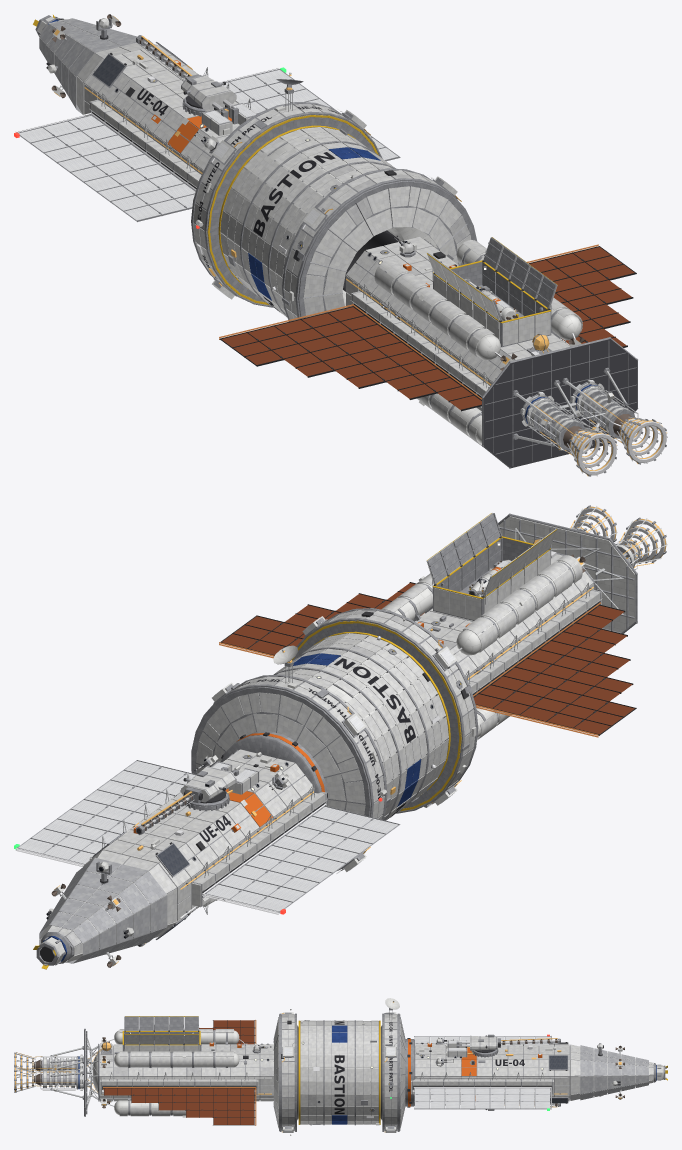
Rendered from bastion.glb.
3 views of the same model, one above another, from view 1: azimuth 30°, elevation 25°; view 2: azimuth 150°, elevation 25°; view 3: azimuth 270°, elevation 25° (orthographic). The views are drawn at different scales.
Parts seen in each view (by area): view 1: CochHull_tile, CochHull_grey, CochHull_hot, CochHull_radw, CochRingDrum_tile, CochHull_tungsten, CochHull_bumper, CochHull_cc, CochHull_white_s, CochHull_truss, CochHull_steel, CochHull_tank (+12 smaller); view 2: CochHull_tile, CochHull_grey, CochHull_radw, CochHull_hot, CochRingDrum_tile, CochHull_bumper, CochHull_white, CochHull_cc, CochHull_white_s, CochHull_truss, CochHull_tank, CochHull_steel (+10 smaller); view 3: CochHull_tile, CochHull_grey, CochRingDrum_tile, CochHull_hot, CochHull_radw, CochHull_bumper, CochHull_white_s, CochHull_truss, CochHull_tank, CochRingDrum_grey, CochHull_tile2, CochRingDrum_white_m (+17 smaller).
Part boxes in pixels (box(x1,y1,x2,y2)): CochHull_tile: box(39, 19, 582, 445); CochHull_grey: box(18, 15, 666, 476); CochHull_hot: box(221, 247, 634, 409); CochHull_radw: box(19, 70, 603, 430); CochRingDrum_tile: box(220, 127, 394, 316); CochHull_tungsten: box(483, 339, 637, 467); CochHull_bumper: box(39, 18, 152, 113); CochHull_cc: box(219, 246, 636, 411); CochHull_white_s: box(37, 15, 627, 450); CochHull_truss: box(59, 24, 667, 476); CochHull_steel: box(143, 41, 666, 475); CochHull_tank: box(379, 244, 581, 443); CochHull_tile: box(39, 513, 602, 962); CochHull_grey: box(17, 505, 666, 965); CochHull_radw: box(18, 560, 509, 911); CochHull_hot: box(222, 583, 634, 734); CochRingDrum_tile: box(275, 633, 448, 820); CochHull_bumper: box(39, 857, 167, 963); CochHull_white: box(471, 516, 635, 632); CochHull_cc: box(220, 582, 636, 735); CochHull_white_s: box(39, 527, 634, 966); CochHull_truss: box(59, 506, 667, 959); CochHull_tank: box(105, 561, 578, 954); CochHull_steel: box(145, 506, 666, 827); CochHull_tile: box(99, 1014, 653, 1131); CochHull_grey: box(14, 1006, 666, 1131); CochRingDrum_tile: box(300, 1020, 378, 1124); CochHull_hot: box(104, 1020, 254, 1124); CochHull_radw: box(80, 1036, 549, 1132); CochHull_bumper: box(580, 1045, 648, 1100); CochHull_white_s: box(43, 998, 663, 1135); CochHull_truss: box(14, 1010, 621, 1107); CochHull_tank: box(114, 1030, 602, 1115); CochRingDrum_grey: box(300, 1020, 378, 1125); CochHull_tile2: box(114, 1014, 583, 1123); CochRingDrum_white_m: box(298, 1027, 380, 1117).
Size of the model in its own units: 99 by 57.52 by 261.
34 materials, 15 textured.
